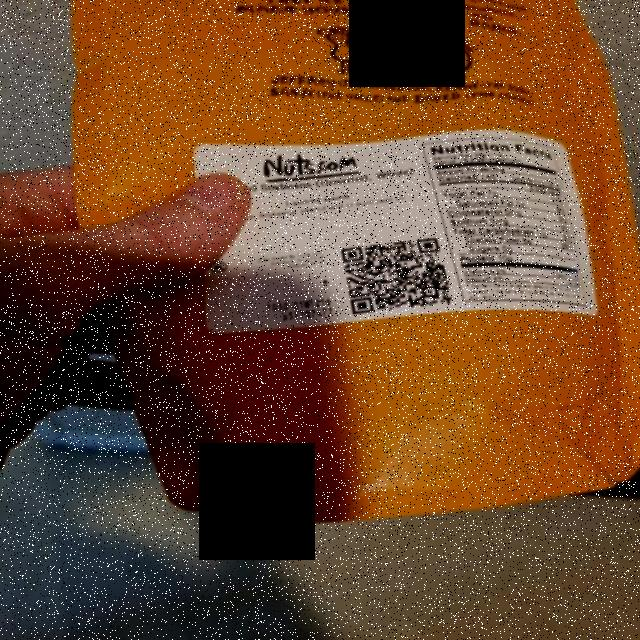QR_CODE: (334, 234, 464, 318)
